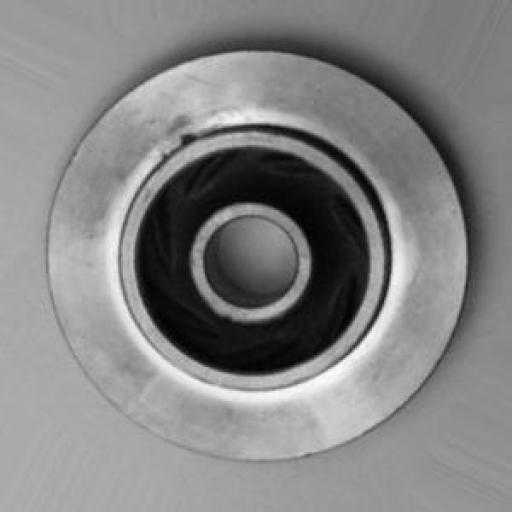defect: (131, 88, 237, 188)
